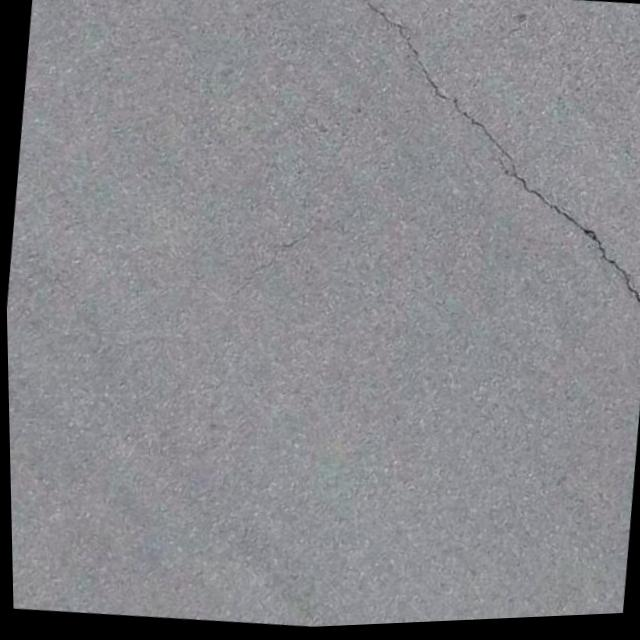Crack: (299, 0, 640, 345)
